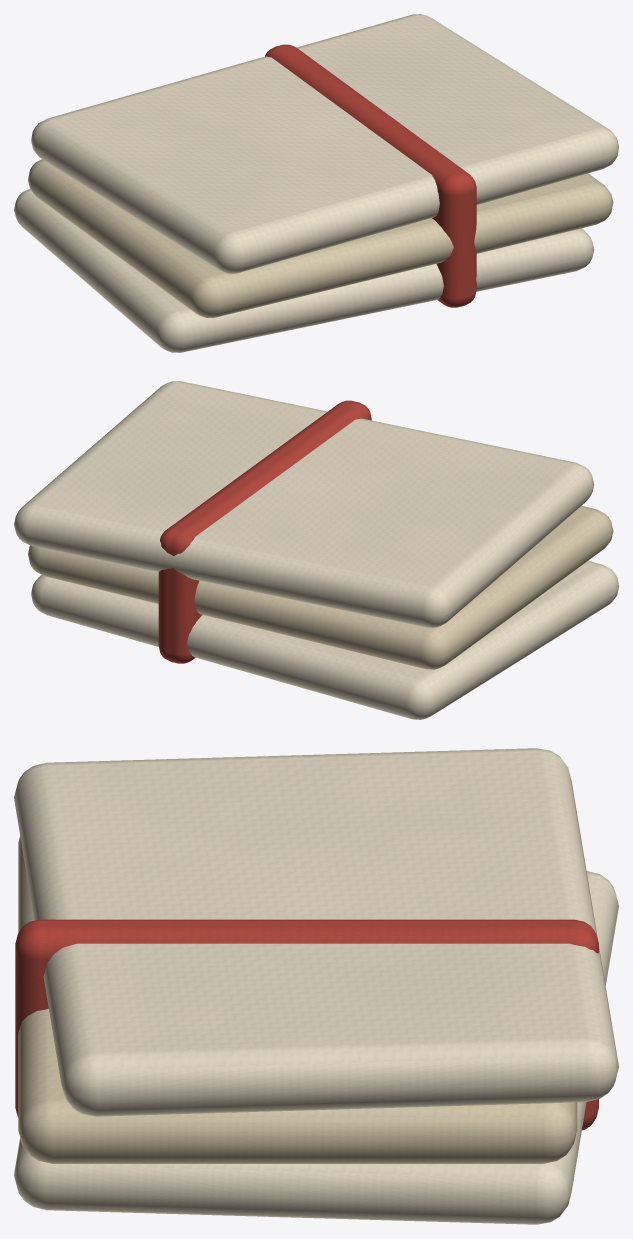
Rendered from cloth.glb.
The picture shows the model from 3 angles, top to bottom: view 1: azimuth 30°, elevation 25°; view 2: azimuth 150°, elevation 25°; view 3: azimuth 270°, elevation 25°; orthographic projection. The views are drawn at different scales.
Parts seen in each view (by area): view 1: cloth; view 2: cloth; view 3: cloth.
Boxes of the visible parts, left/top/right/bottom form: cloth: left=14, top=14, right=618, bottom=352; cloth: left=14, top=381, right=618, bottom=719; cloth: left=14, top=748, right=618, bottom=1224.
Bounding box in the file's own units: 0.2625 × 0.072 × 0.1948.
Materials: 3 (3 with a texture image).
